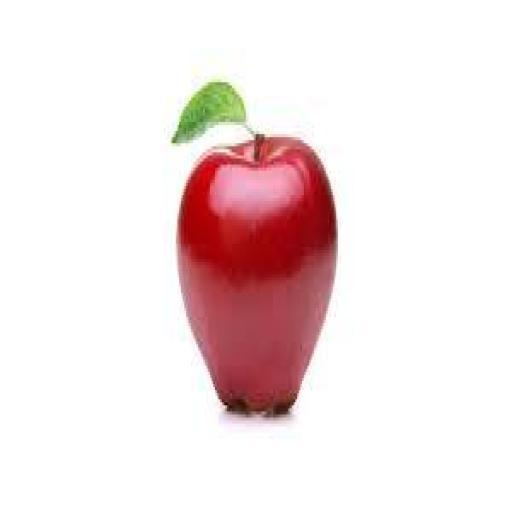apple: (178, 135, 336, 411)
